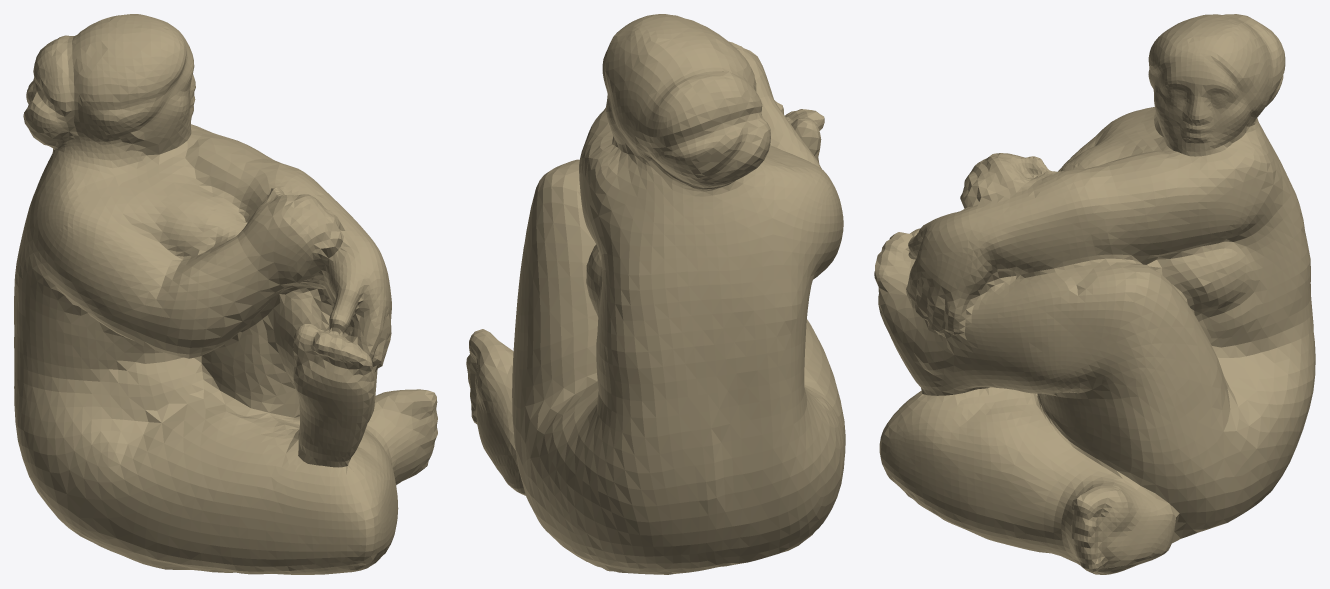
Rendered from Classical-woman.fbx.
3 views of the same model, side by side, from view 1: azimuth 30°, elevation 25°; view 2: azimuth 150°, elevation 25°; view 3: azimuth 270°, elevation 25° (orthographic). The views are drawn at different scales.
Visible parts, largest first — view 1: felicitas_sculpture_01; view 2: felicitas_sculpture_01; view 3: felicitas_sculpture_01.
Boxes of the visible parts, x1,y1,x2,y2 form: felicitas_sculpture_01: (14, 14, 437, 574); felicitas_sculpture_01: (466, 14, 845, 574); felicitas_sculpture_01: (874, 14, 1315, 574).
Size of the model in its own units: 61.74 by 79.03 by 67.5.
